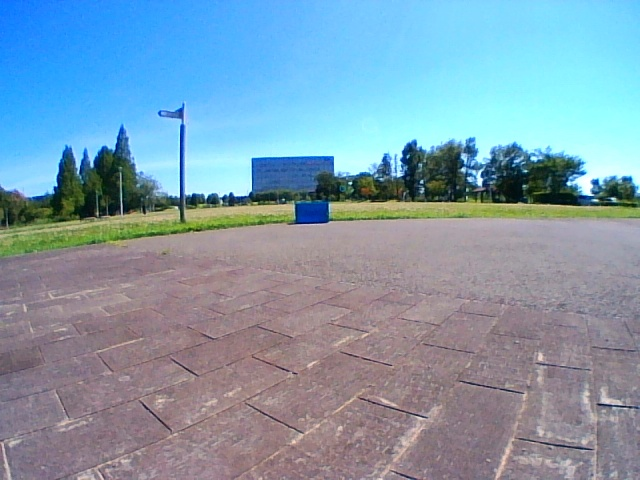blue_box: (294, 201, 329, 224)
